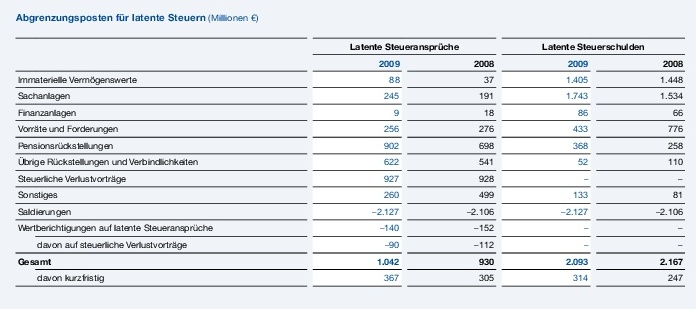table: (0, 0, 696, 309)
